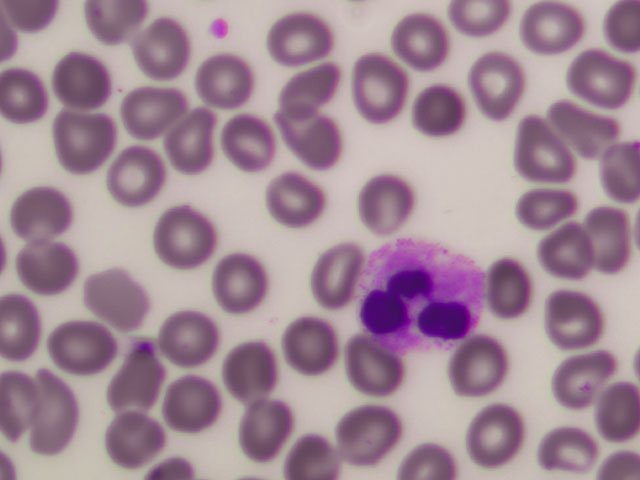Platelets: (202, 11, 239, 44)
RBC: (388, 421, 447, 480), (276, 421, 335, 480), (49, 55, 108, 113), (57, 110, 116, 168), (108, 147, 167, 205), (115, 79, 174, 137), (161, 111, 220, 169), (129, 20, 188, 78), (86, 1, 145, 59), (202, 51, 261, 109), (220, 111, 279, 169), (281, 54, 340, 112), (279, 101, 338, 159), (266, 9, 325, 67), (346, 58, 405, 116), (388, 12, 447, 70), (414, 85, 473, 143), (463, 51, 522, 109), (519, 4, 578, 62), (567, 44, 626, 102), (559, 100, 618, 158), (513, 116, 572, 174), (516, 180, 575, 238), (528, 221, 587, 279), (579, 212, 638, 270), (548, 285, 607, 343), (480, 254, 539, 312), (456, 334, 515, 392), (456, 402, 515, 460), (531, 412, 590, 470), (547, 343, 606, 401), (581, 393, 640, 451), (337, 404, 396, 462), (336, 344, 395, 402), (286, 312, 345, 370), (305, 244, 364, 302), (353, 174, 412, 232), (269, 182, 328, 240), (216, 262, 275, 320), (153, 209, 212, 267), (20, 238, 79, 296), (14, 185, 73, 243), (77, 260, 136, 318), (55, 318, 114, 376), (26, 380, 85, 438), (116, 363, 175, 421), (109, 408, 168, 466), (173, 372, 232, 430), (218, 343, 277, 401), (161, 310, 220, 368), (224, 395, 283, 453), (1, 296, 59, 355), (1, 73, 59, 131), (450, 1, 509, 58)
WBC: (358, 241, 480, 348)
